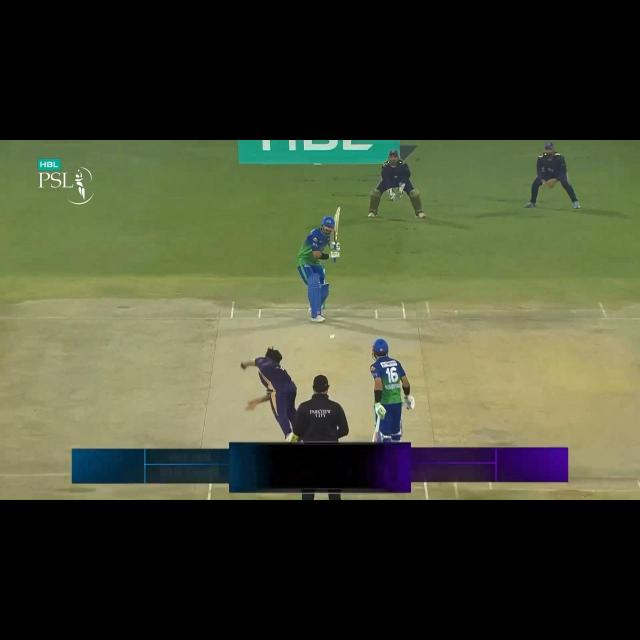bat: (334, 206, 342, 241)
toe: (372, 430, 380, 442), (333, 206, 342, 213)
